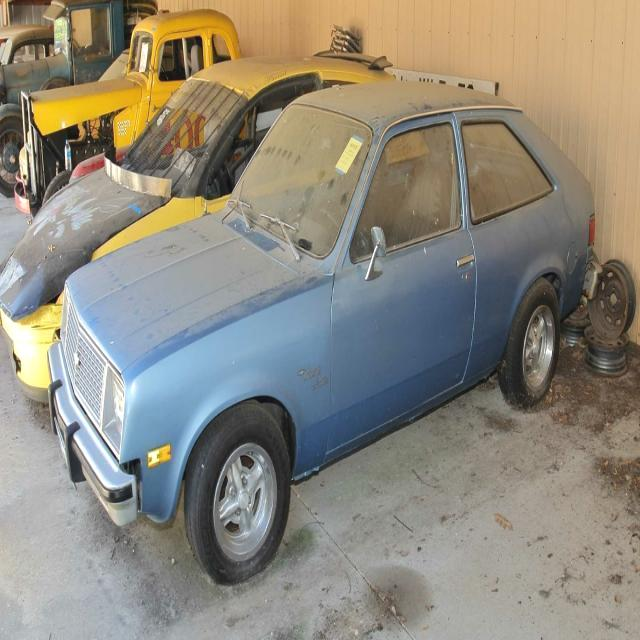car: (48, 86, 597, 592)
